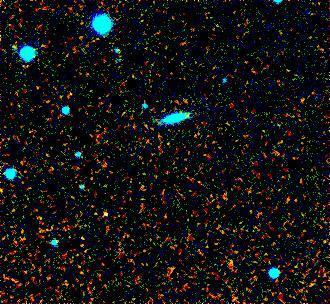star: (90, 198, 120, 228)
